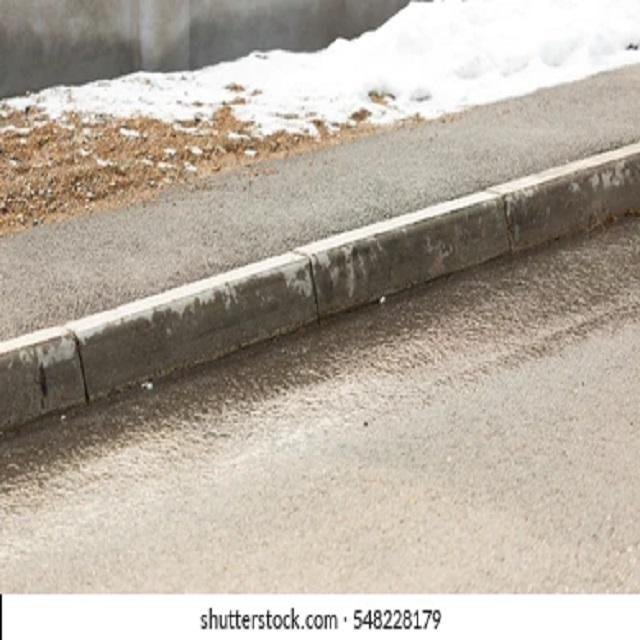curb: (167, 236, 363, 363), (1, 316, 166, 439), (480, 142, 637, 259), (350, 195, 502, 305)
